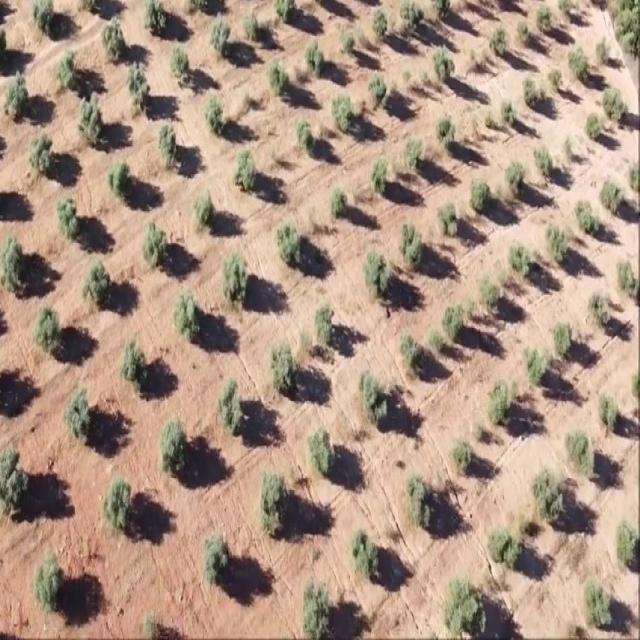trees: (432, 574, 502, 635), (576, 561, 622, 636), (482, 514, 524, 585), (298, 560, 334, 640), (99, 469, 138, 542), (30, 542, 63, 626), (402, 468, 442, 537), (529, 455, 565, 530), (358, 360, 394, 434), (0, 432, 27, 530), (77, 242, 112, 316), (211, 368, 248, 437), (200, 518, 234, 592), (304, 416, 340, 484), (182, 177, 220, 241), (218, 245, 254, 312), (101, 142, 135, 212), (154, 108, 187, 179), (170, 281, 203, 351), (265, 331, 298, 401), (53, 178, 85, 250), (256, 460, 288, 532), (562, 407, 594, 478), (62, 378, 93, 450), (74, 86, 110, 148), (4, 61, 39, 124), (133, 216, 173, 270), (160, 408, 190, 480), (272, 207, 304, 274), (363, 242, 396, 305), (99, 14, 132, 76), (29, 298, 61, 360), (345, 524, 381, 579), (594, 390, 628, 446), (25, 119, 56, 180), (117, 331, 147, 394), (394, 214, 429, 268), (0, 232, 27, 301), (609, 514, 640, 574), (488, 372, 518, 433), (124, 53, 150, 122), (228, 142, 260, 198), (450, 424, 479, 480), (428, 33, 456, 90), (328, 80, 354, 140), (200, 87, 228, 142), (523, 336, 552, 389), (166, 31, 196, 82), (364, 148, 392, 202), (312, 297, 338, 355), (534, 133, 564, 183), (611, 250, 635, 312), (326, 176, 356, 225), (395, 329, 425, 378), (594, 176, 624, 224), (475, 267, 502, 320), (433, 186, 458, 243), (30, 0, 66, 39), (497, 154, 525, 204), (288, 117, 317, 165), (562, 43, 592, 89), (208, 11, 235, 62), (366, 66, 394, 115), (468, 169, 496, 218), (504, 234, 531, 284), (432, 104, 459, 152), (544, 216, 571, 264), (565, 194, 595, 237), (302, 34, 328, 83), (437, 296, 467, 338), (602, 78, 628, 126), (56, 39, 77, 98), (265, 53, 289, 103), (402, 130, 426, 180), (554, 307, 576, 361), (587, 285, 611, 332), (332, 24, 362, 60), (590, 30, 615, 73), (141, 0, 167, 41), (369, 0, 391, 48), (397, 0, 423, 40), (242, 0, 262, 50), (580, 101, 602, 144), (523, 70, 546, 111), (488, 21, 508, 65), (495, 93, 515, 135), (536, 0, 556, 36), (515, 8, 531, 48)
